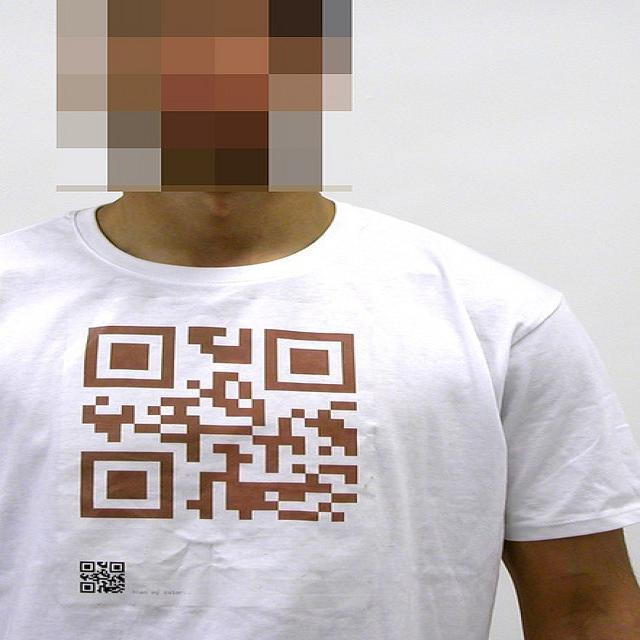qr-code: (80, 325, 358, 521), (80, 561, 124, 592)
